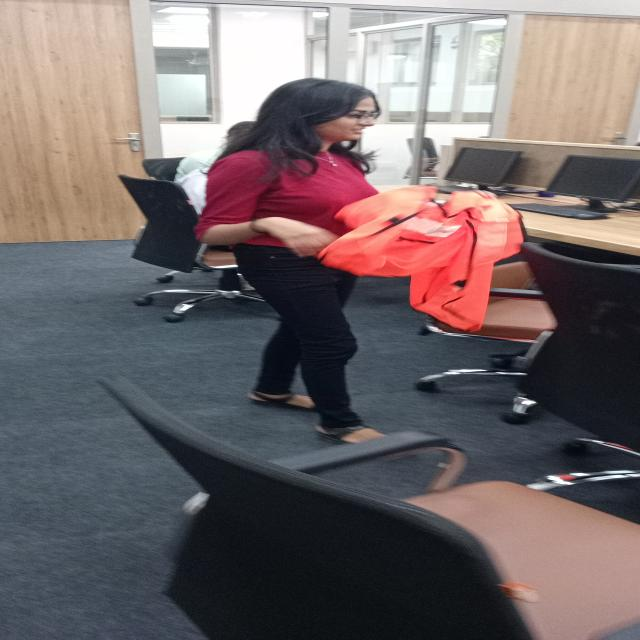unsafe: (197, 78, 393, 442)
